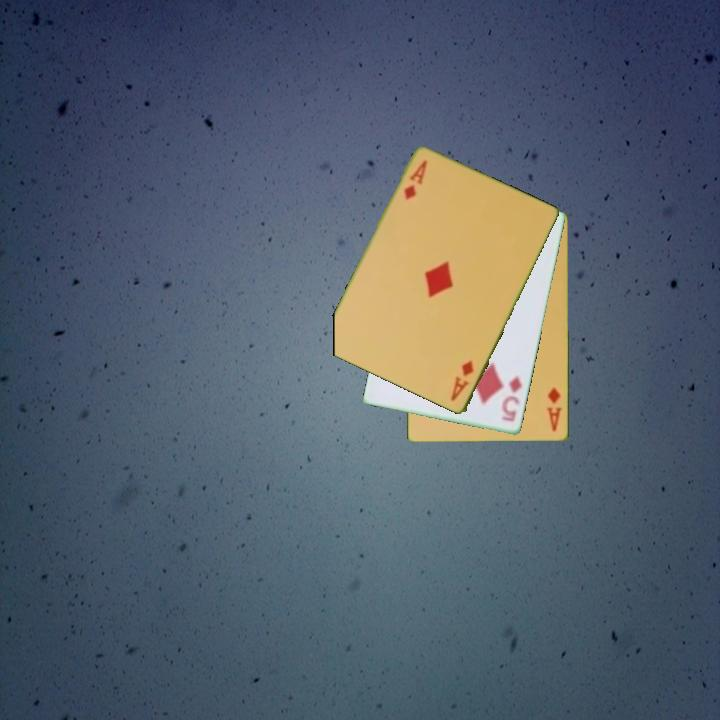5d: (498, 372, 525, 425)
Ad: (447, 357, 477, 404), (400, 157, 430, 203), (544, 384, 565, 435)
